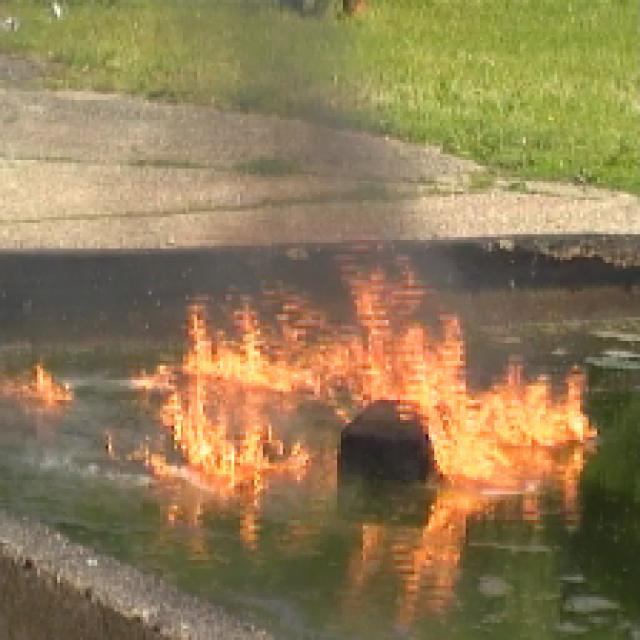Fire: (146, 270, 618, 498)
